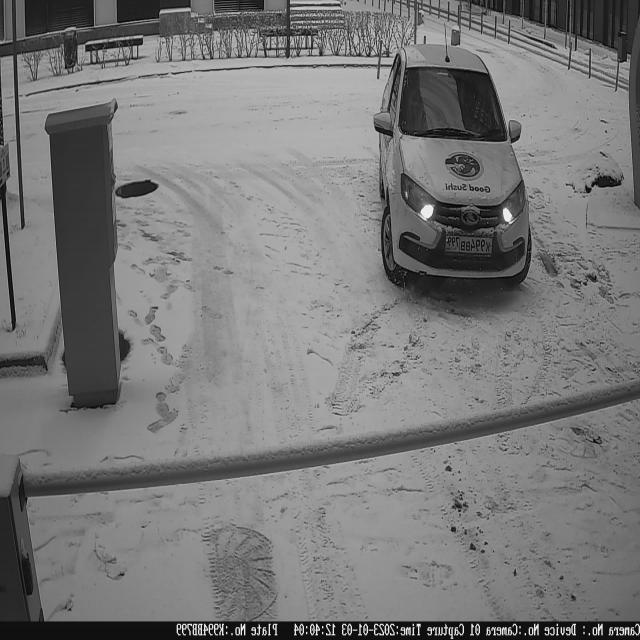car-plate-numbers: (445, 233, 496, 261)
